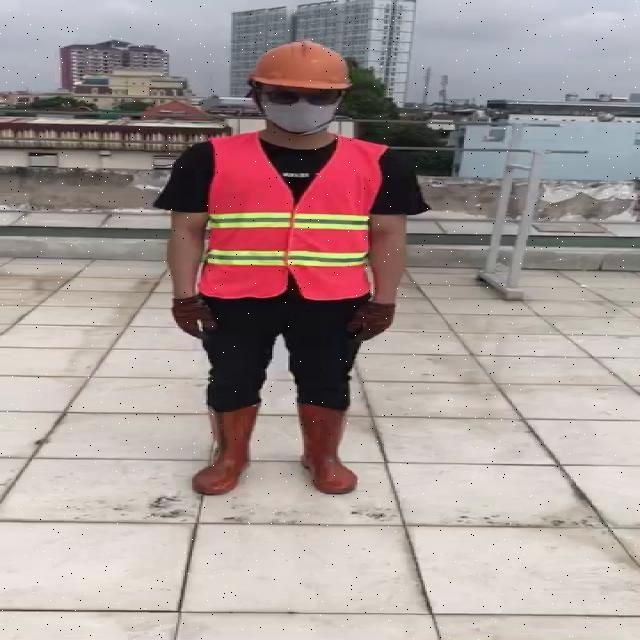Hard_hat: (239, 37, 355, 103)
Vest: (198, 131, 378, 301)
